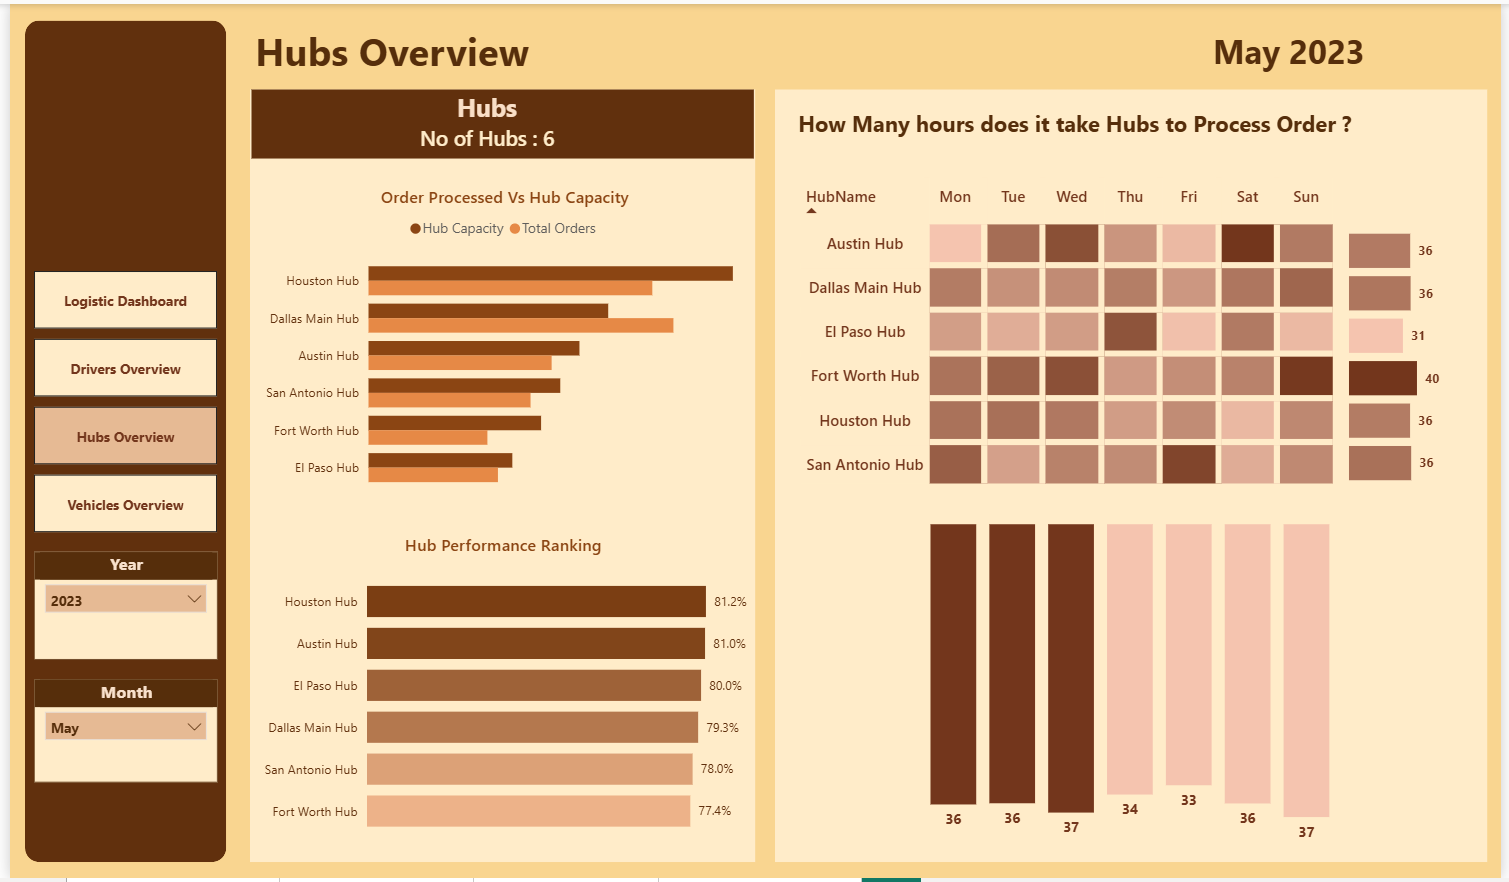

This screenshot's page, from the dashboard's own definition file:
{"tool":"powerbi","page":{"name":"Hubs Overview","canvas":[1450,850],"ordinal":2},"visuals":[{"type":"shape","title":"Navigation bar ","box":[14.3,15.7,195.7,818.6],"z":0},{"type":"textbox","title":"Title","box":[233,14.4,322.3,63.8],"z":1000},{"type":"slicer","title":"Year","fields":{"Values":["Date Table.Year"]},"box":[22.9,532.3,179,105.5],"z":2000},{"type":"slicer","title":"Month","fields":{"Values":["Date Table.Month"]},"box":[22.9,656.2,179,100.9],"z":3000},{"type":"shape","box":[233,83,491.5,751.6],"z":4000},{"type":"shape","box":[234.3,82.9,488.6,67.1],"z":5000},{"type":"clusteredBarChart","title":"Order Processed Vs Hub Capacity ","fields":{"Category":["Hubs.HubName"],"Y":["Sum(Hubs.Hub Capacity)","Orders.Total Orders"]},"box":[235.7,177.1,490,308.6],"z":6000},{"type":"card","fields":{"Values":["Orders.Year Month Title"]},"box":[1093.1,14.4,301.6,63.8],"z":7000},{"type":"clusteredBarChart","title":"Hub Performance Ranking ","fields":{"Category":["Hubs.HubName"],"Y":["Orders.On Time Delivery Rate"]},"box":[234.3,514.3,490,307.1],"z":8000},{"type":"shape","box":[744.3,82.9,692.9,751.4],"z":9000},{"type":"card","fields":{"Values":["Hubs.No of Hubs"]},"box":[354.3,114.3,218.6,35.7],"z":10000},{"type":"textbox","box":[392.9,78.6,142.9,52.9],"z":11000},{"type":"pivotTable","fields":{"Rows":["Hubs.HubName"],"Columns":["Date Table.Day"],"Values":["Orders.Avg Delivery Time (Hrs)"]},"box":[757.1,158.3,539.2,325.8],"z":12000},{"type":"columnChart","fields":{"Category":["Date Table.Day"],"Y":["Orders.Avg Delivery Time (Hrs)"]},"box":[890.2,491,399.2,330.4],"z":13000},{"type":"barChart","fields":{"Category":["Hubs.HubName"],"Y":["Orders.Avg Delivery Time (Hrs)"]},"box":[1297.2,210.5,139.2,258.7],"z":14000},{"type":"textbox","title":"Title","box":[761.9,96.4,604.9,62.4],"z":15000},{"type":"pageNavigator","box":[22.9,259.3,179,254.7],"z":16000}]}

Visuals, with their boxes in screenshot pixels (x1, y1, x2, y2), scaled from the page's 1450x850 canvas onto the 1509x882 screenshot:
"Navigation bar " shape: BBox(15, 16, 219, 866)
"Title" textbox: BBox(242, 15, 578, 81)
"Year" slicer: BBox(24, 552, 210, 662)
"Month" slicer: BBox(24, 681, 210, 786)
shape: BBox(242, 86, 754, 866)
shape: BBox(244, 86, 752, 156)
"Order Processed Vs Hub Capacity " clusteredBarChart: BBox(245, 184, 755, 504)
card - Orders.Year Month Title: BBox(1138, 15, 1451, 81)
"Hub Performance Ranking " clusteredBarChart: BBox(244, 534, 754, 852)
shape: BBox(775, 86, 1496, 866)
card - Hubs.No of Hubs: BBox(369, 119, 596, 156)
textbox: BBox(409, 82, 558, 136)
pivotTable - Hubs.HubName x Date Table.Day: BBox(788, 164, 1349, 502)
columnChart - Date Table.Day x Orders.Avg Delivery Time (Hrs): BBox(926, 509, 1342, 852)
barChart - Hubs.HubName x Orders.Avg Delivery Time (Hrs): BBox(1350, 218, 1495, 487)
"Title" textbox: BBox(793, 100, 1422, 165)
pageNavigator: BBox(24, 269, 210, 533)
